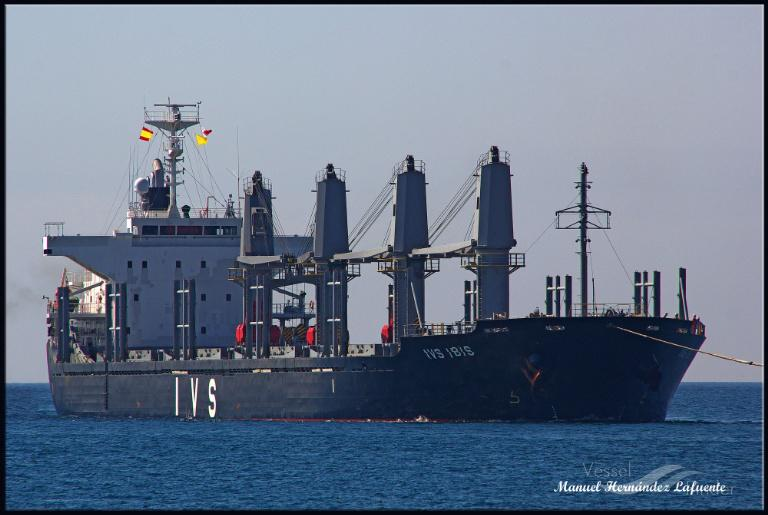OCR: (162, 370, 234, 419), (418, 344, 478, 366)
